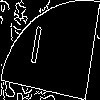I: (25, 25, 46, 74)
